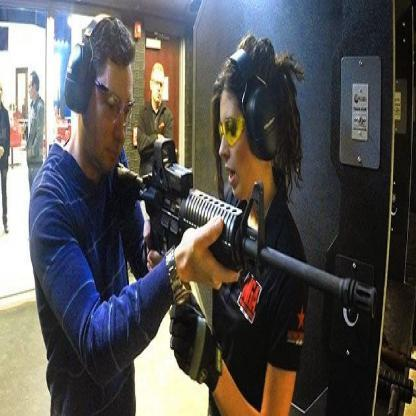Gun: (102, 109, 387, 380)
